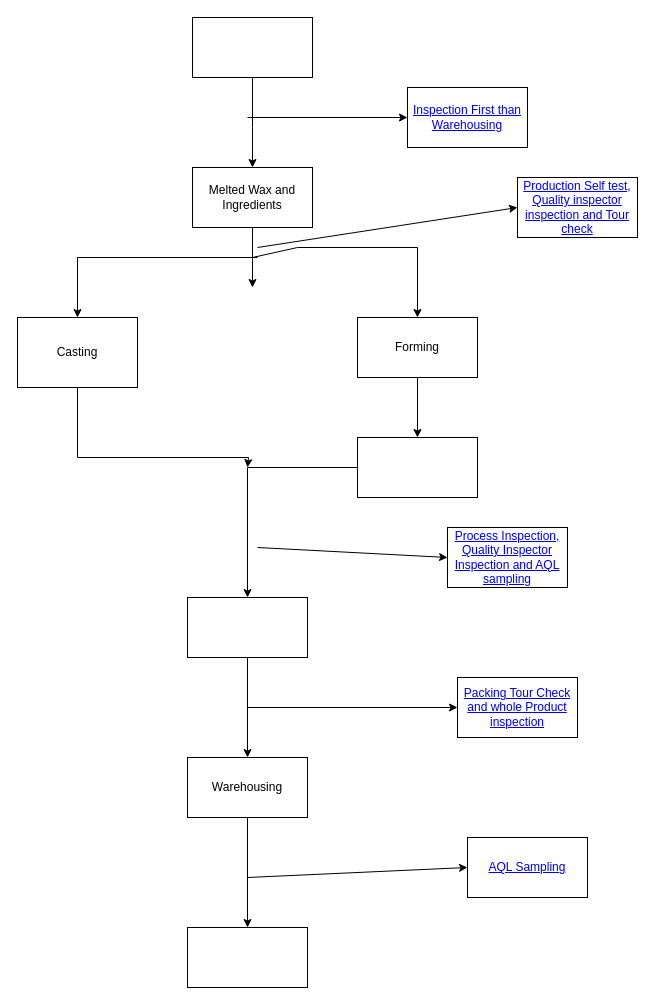
Image size: 655x1005. Some labels were removed from this diagram. The shapes that lost their labels are listed below. From the top down, each one's box as (x1, y1, x2, y2) in pixels, then its label:
(192, 16, 312, 78): Raw Materials
(356, 436, 478, 498): Clad
(186, 596, 308, 658): Packing
(186, 926, 308, 988): Ship
